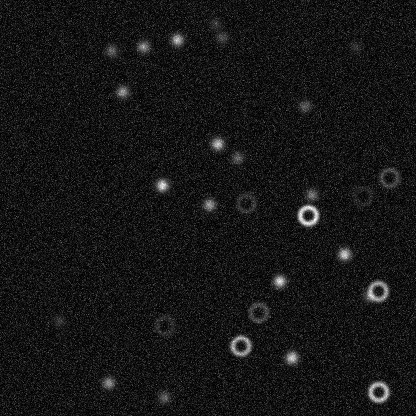Ring: (377, 165, 401, 189), (350, 184, 374, 208), (246, 300, 270, 324), (295, 203, 319, 227), (365, 278, 389, 302), (228, 333, 252, 357), (152, 313, 176, 337), (366, 379, 390, 403), (234, 190, 258, 214)
Spot: (360, 288, 376, 304), (303, 186, 319, 202), (153, 177, 169, 193), (296, 98, 312, 114), (283, 349, 299, 365), (336, 246, 352, 262), (347, 39, 363, 55), (135, 38, 151, 54), (155, 389, 171, 405), (229, 149, 245, 165), (169, 31, 185, 47), (114, 83, 130, 99), (103, 42, 119, 58), (207, 15, 223, 31), (51, 312, 67, 328), (209, 135, 225, 151), (271, 273, 287, 289), (214, 29, 230, 45), (100, 374, 116, 390), (201, 196, 217, 212)
